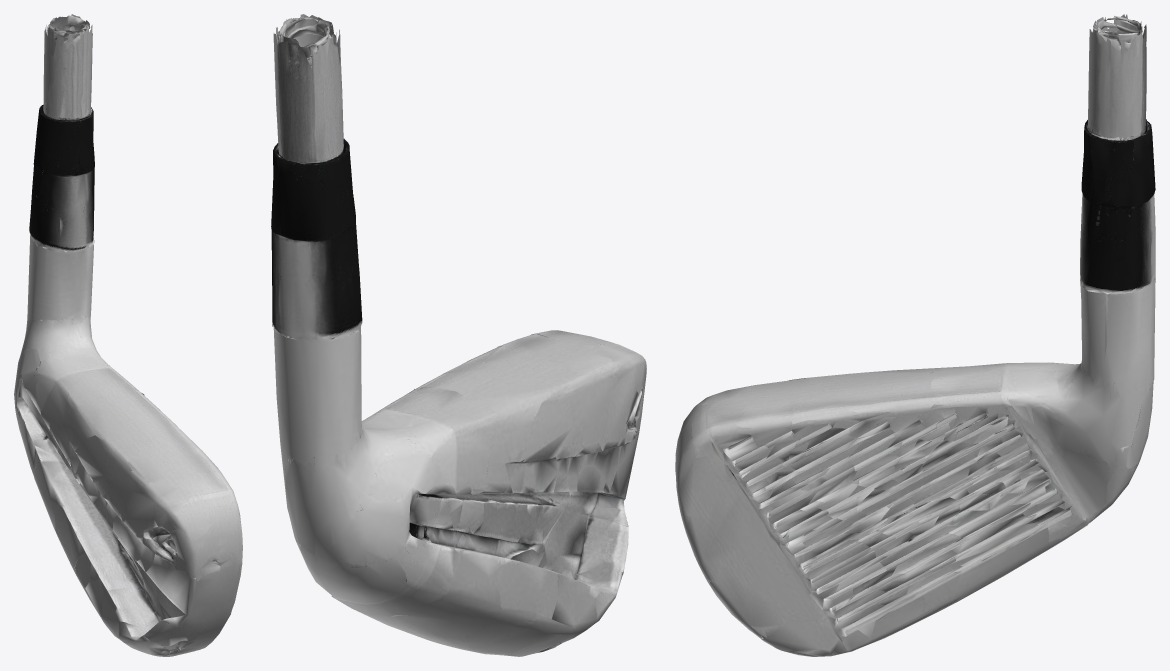
The model's file is iron_default.glb.
The picture shows the model from 3 angles, left to right: view 1: azimuth 30°, elevation 25°; view 2: azimuth 150°, elevation 25°; view 3: azimuth 270°, elevation 25°; orthographic projection. The views are drawn at different scales.
Parts seen in each view (by area): view 1: Mesh_0; view 2: Mesh_0; view 3: Mesh_0.
Boxes of the visible parts, x1,y1,x2,y2 form: Mesh_0: (14,14,242,656); Mesh_0: (271,14,646,656); Mesh_0: (675,14,1155,656).
Size of the model in its own units: 0.0233 by 0.1157 by 0.0789.
1 material, 1 textured.
